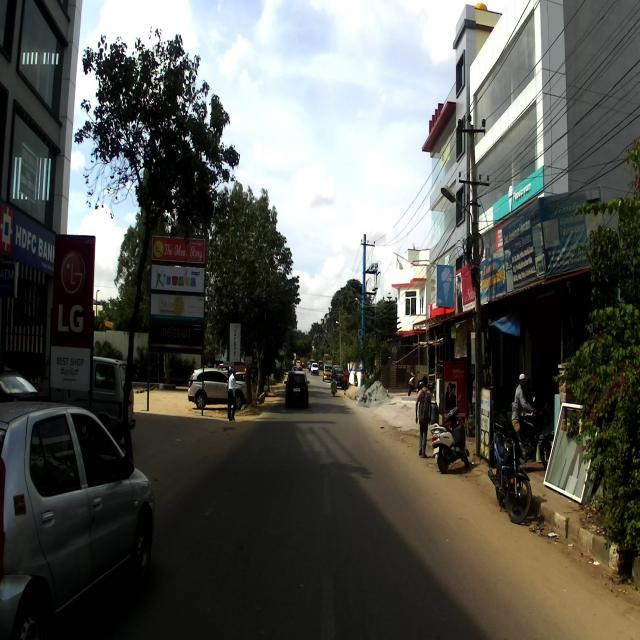car: (0, 402, 155, 640), (37, 357, 135, 441), (285, 371, 310, 409)
motorcycle: (488, 429, 536, 527), (498, 394, 556, 466)
scooter: (429, 394, 473, 472)
